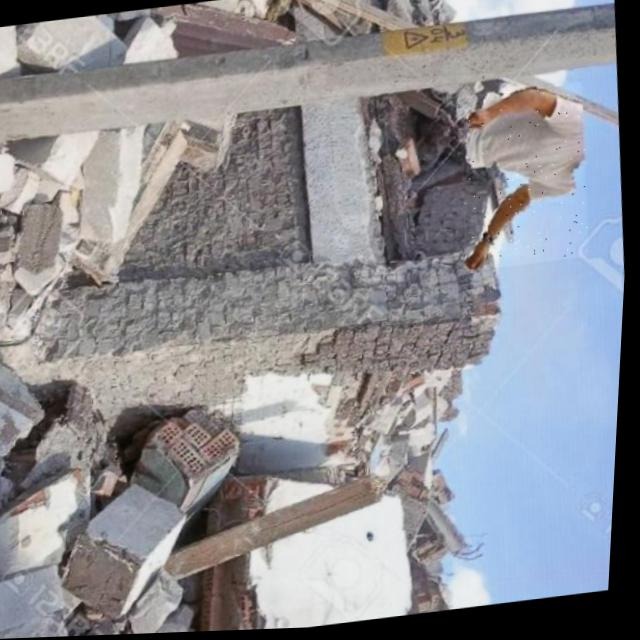Person in Rubble: (452, 85, 597, 276)
